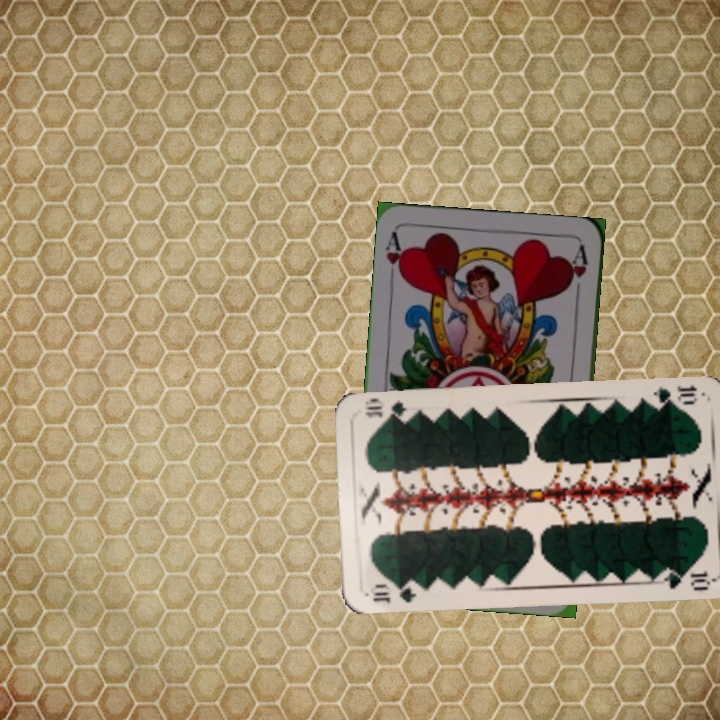G10: (647, 381, 700, 410), (368, 579, 419, 606)
HA: (381, 228, 408, 287)
